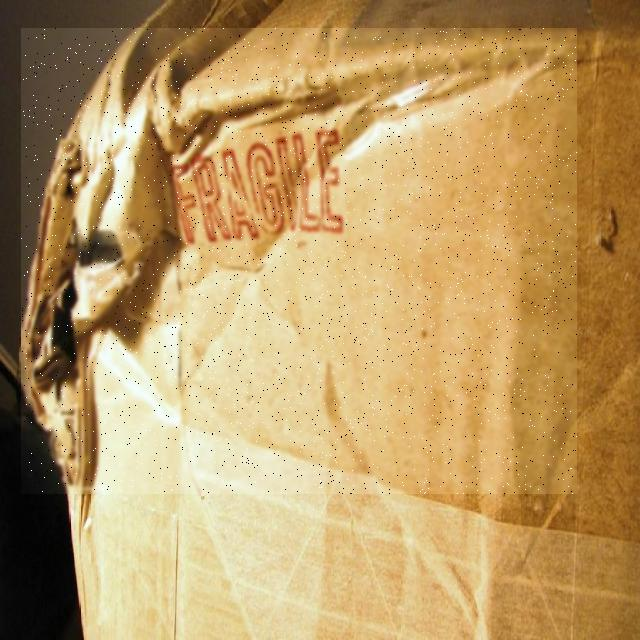squeeze: (21, 29, 577, 494)
